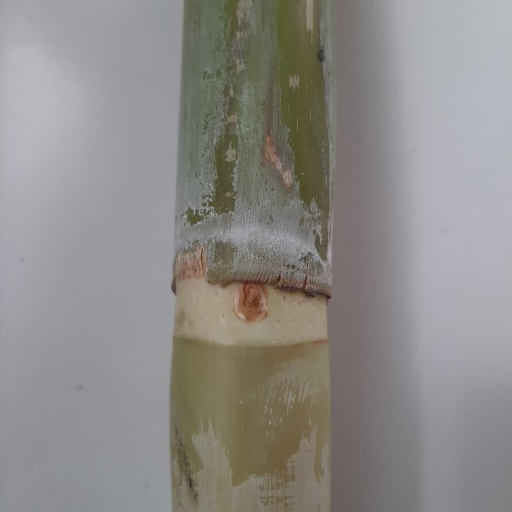Damage_Bud: (236, 280, 268, 324)
